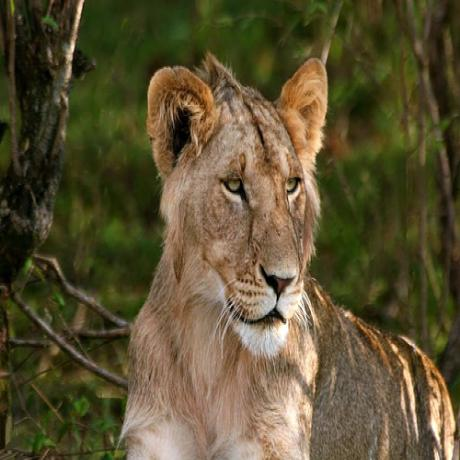Lion: (124, 55, 456, 460)
